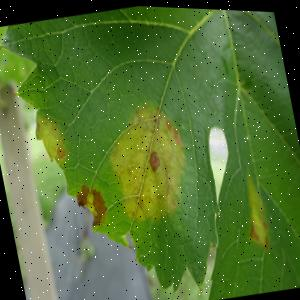Folha: (0, 0, 300, 300)
Fungo: (97, 94, 198, 229), (232, 161, 282, 256), (73, 179, 110, 229), (165, 115, 183, 146), (74, 182, 92, 208), (148, 147, 162, 171)
